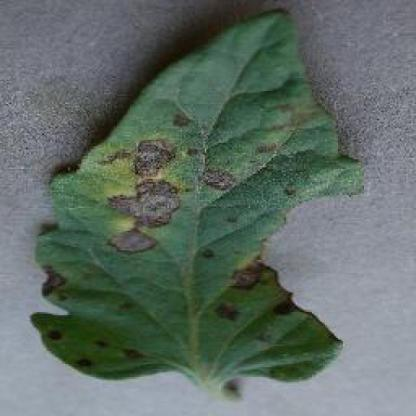Tomato_Blight: (30, 8, 362, 386)
